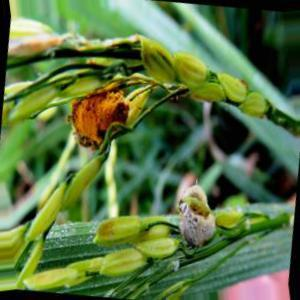Leaf_Scald: (75, 81, 129, 143)
